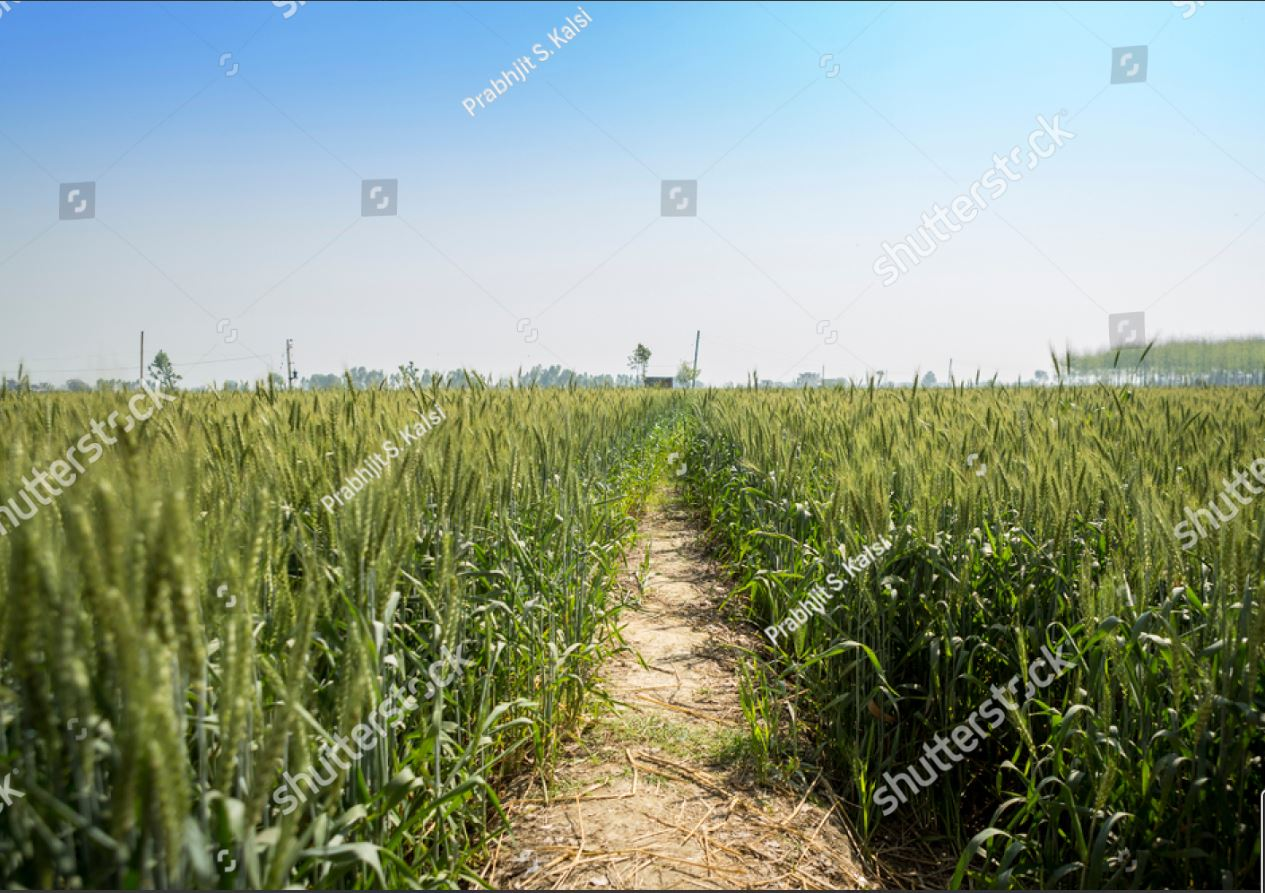Wheat: (901, 406, 1154, 597)
